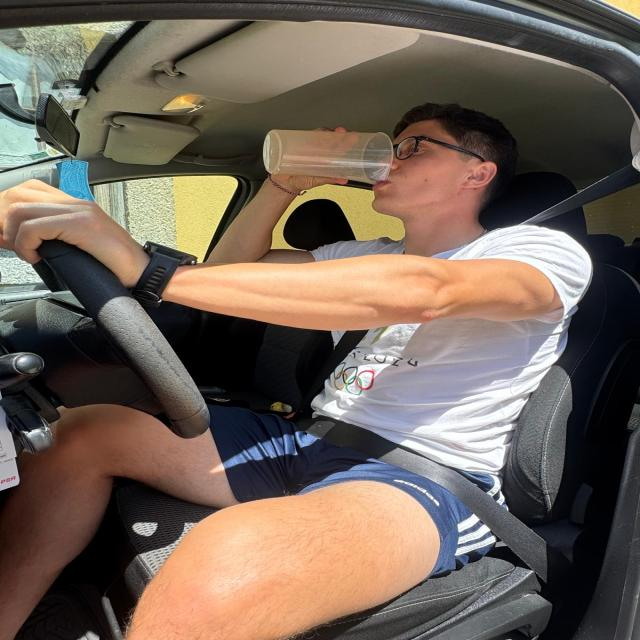Drinking: (254, 114, 410, 206)
Seatbelt: (218, 170, 640, 597)
